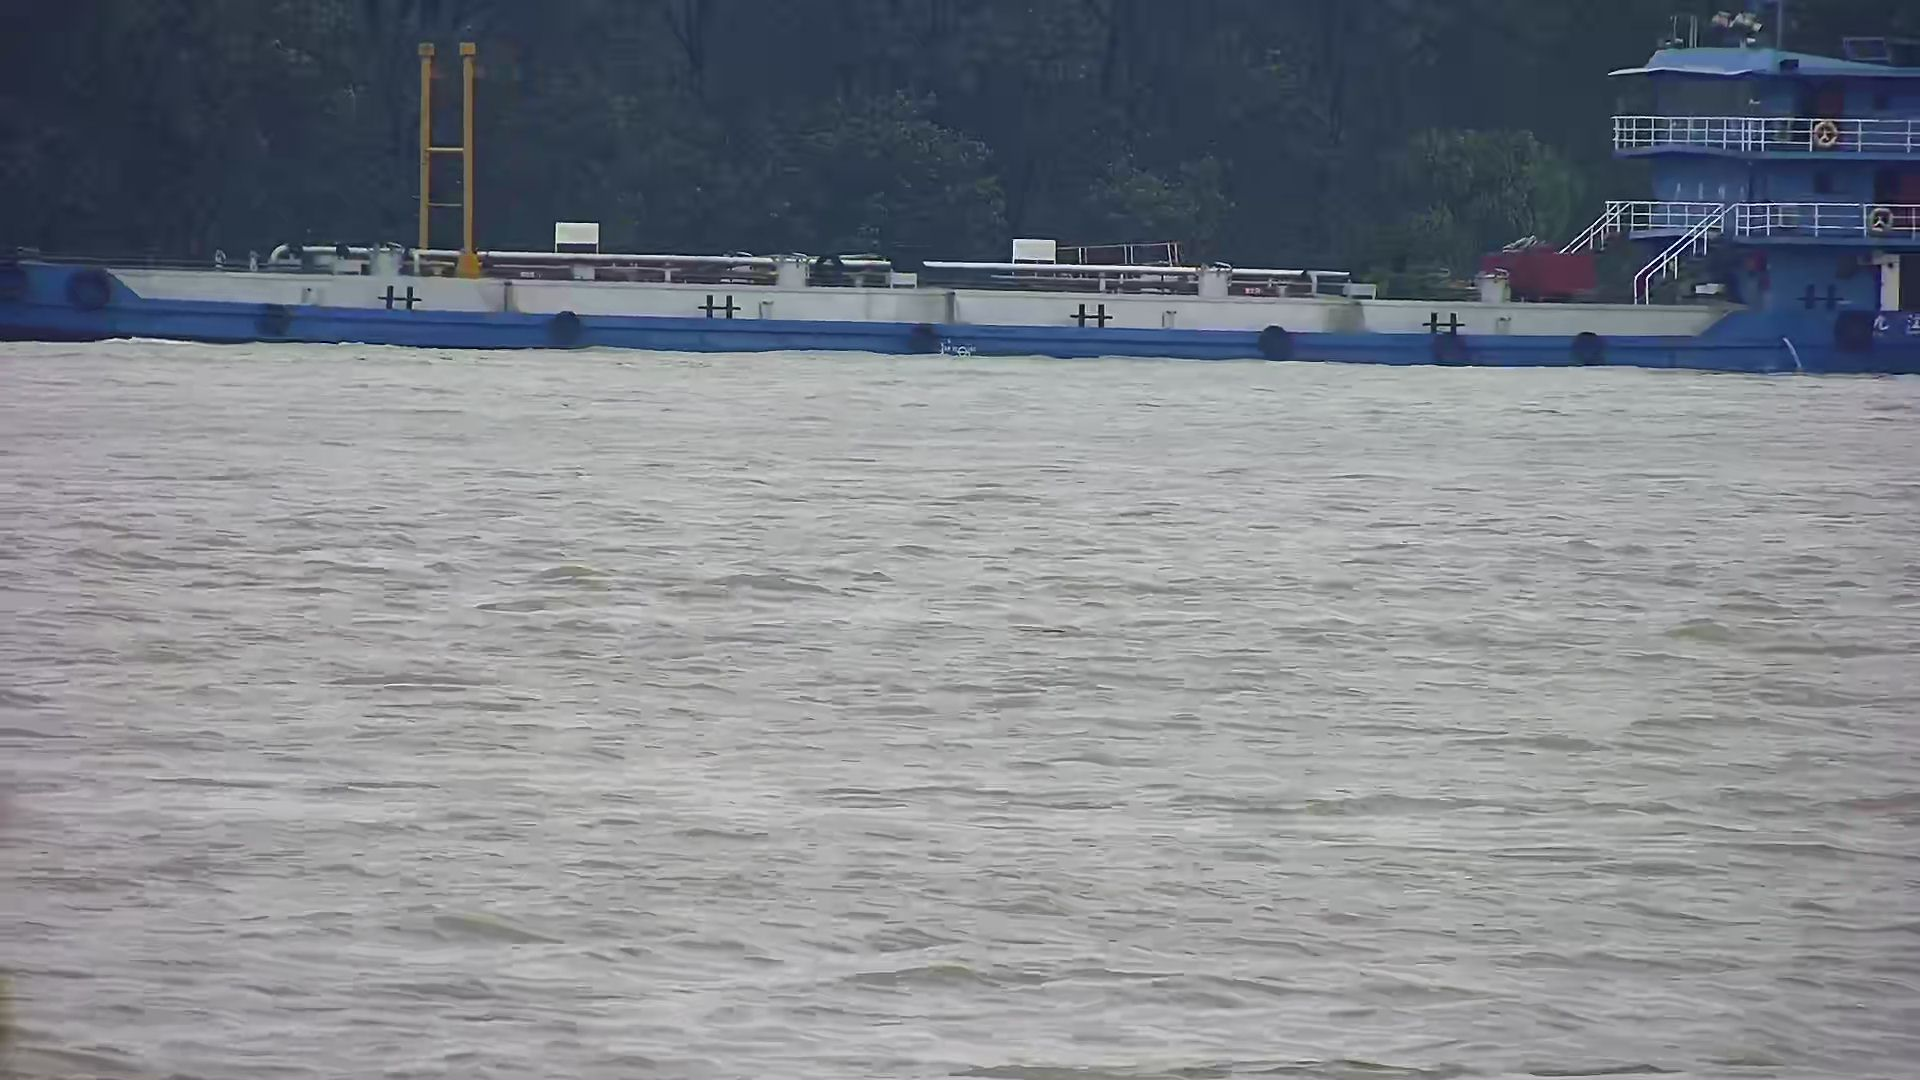ship: (1, 3, 1920, 386)
